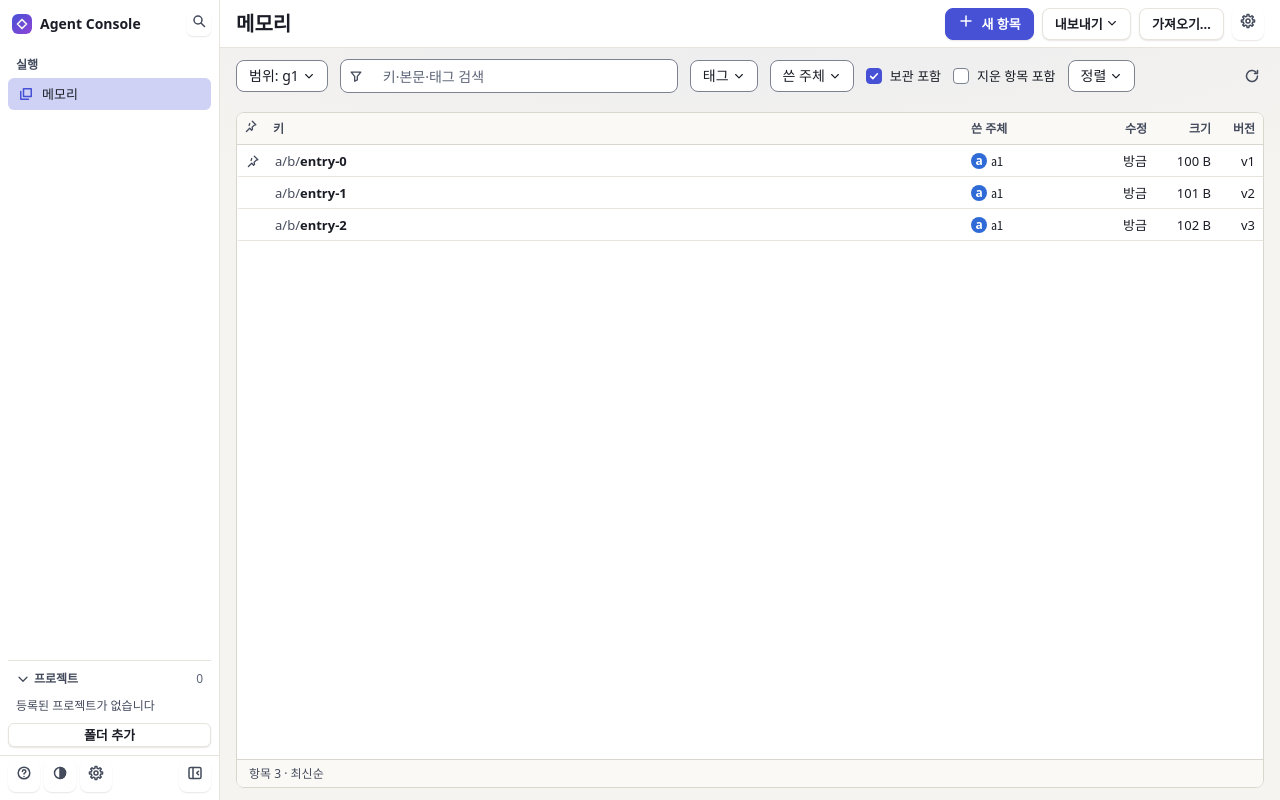
Test: 메모리 화면: 목록·검색·정렬 › 태그 목록은 서버 태그 질의(현재 범위·보관 포함 인자)로 채워지고 고르면 칩이 생긴다
The image size is (1280, 800).
Click the button "태그" at (724, 76), box x1=690 y1=60 x2=758 y2=92
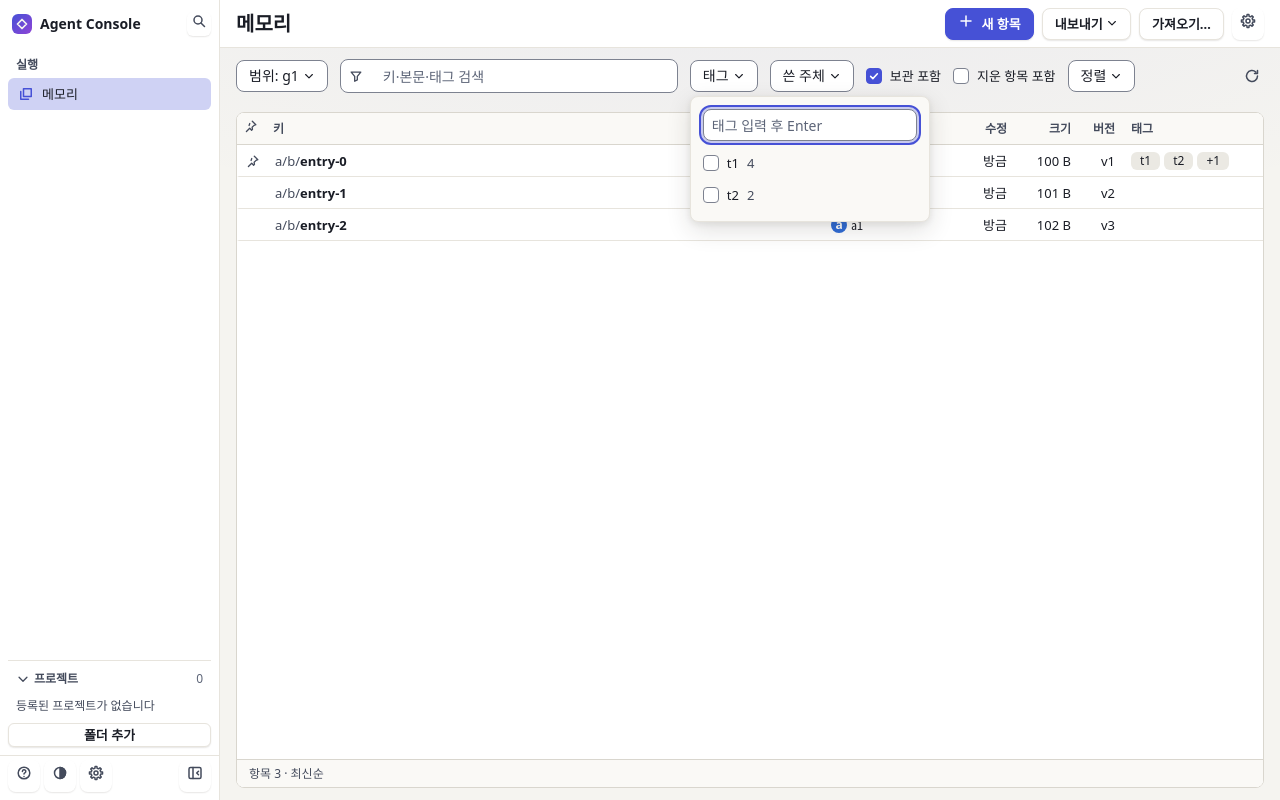
Expected: the list items read "t1 4", "t2 2", in this order, x1=703 y1=154 x2=754 y2=172; x1=703 y1=186 x2=754 y2=204
Click the checkbox labelled "t2 2" at (711, 195), box x1=703 y1=187 x2=719 y2=203
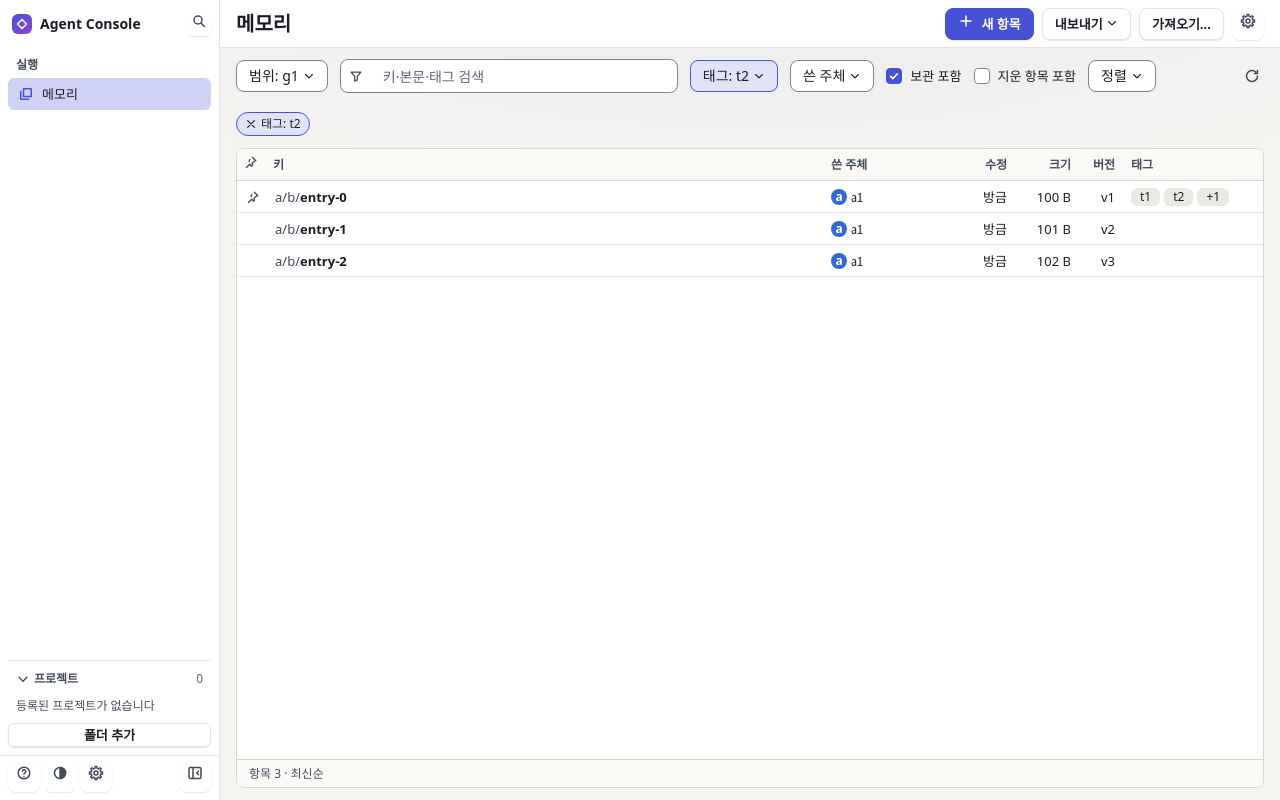
Expected: the 2nd button "태그: t2" is shown, x1=236 y1=112 x2=310 y2=136
